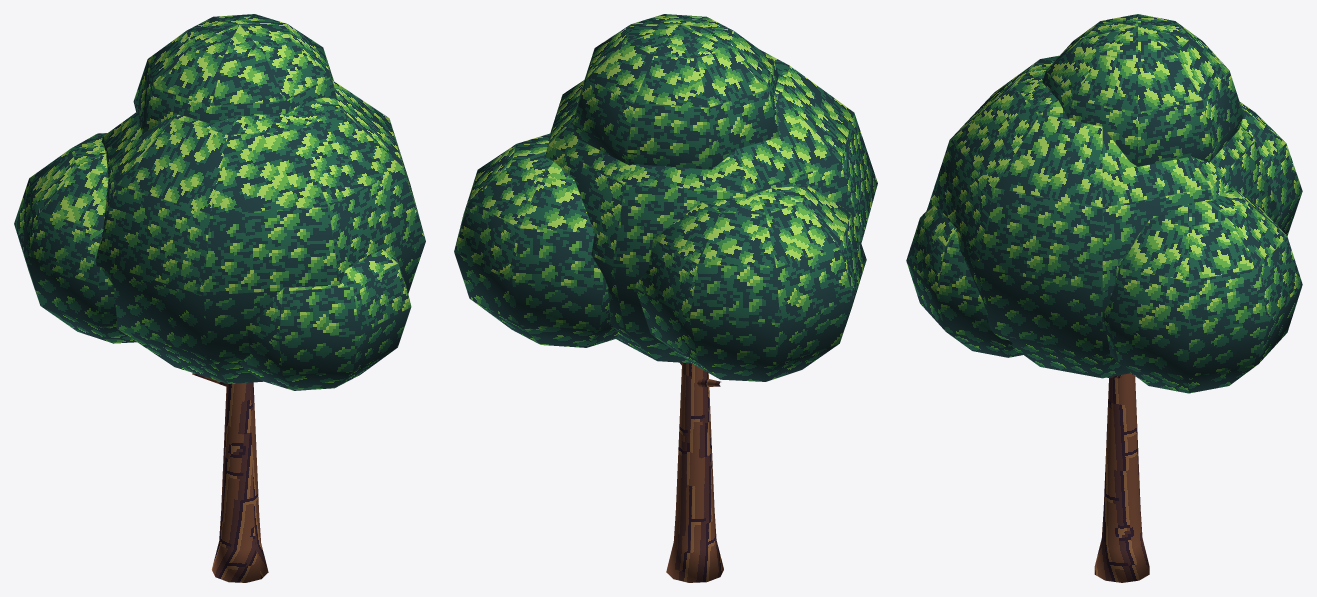
The picture shows the model from 3 angles, left to right: view 1: azimuth 30°, elevation 25°; view 2: azimuth 150°, elevation 25°; view 3: azimuth 270°, elevation 25°; orthographic projection. The views are drawn at different scales.
Parts seen in each view (by area): view 1: OakRoot; view 2: OakRoot; view 3: OakRoot.
Boxes of the visible parts, x1,y1,x2,y2 form: OakRoot: (14,14,425,582); OakRoot: (454,14,877,582); OakRoot: (906,14,1302,582).
Bounding box in the file's own units: 5.65 × 7.7 × 5.05.
Materials: 2 (2 with a texture image).
